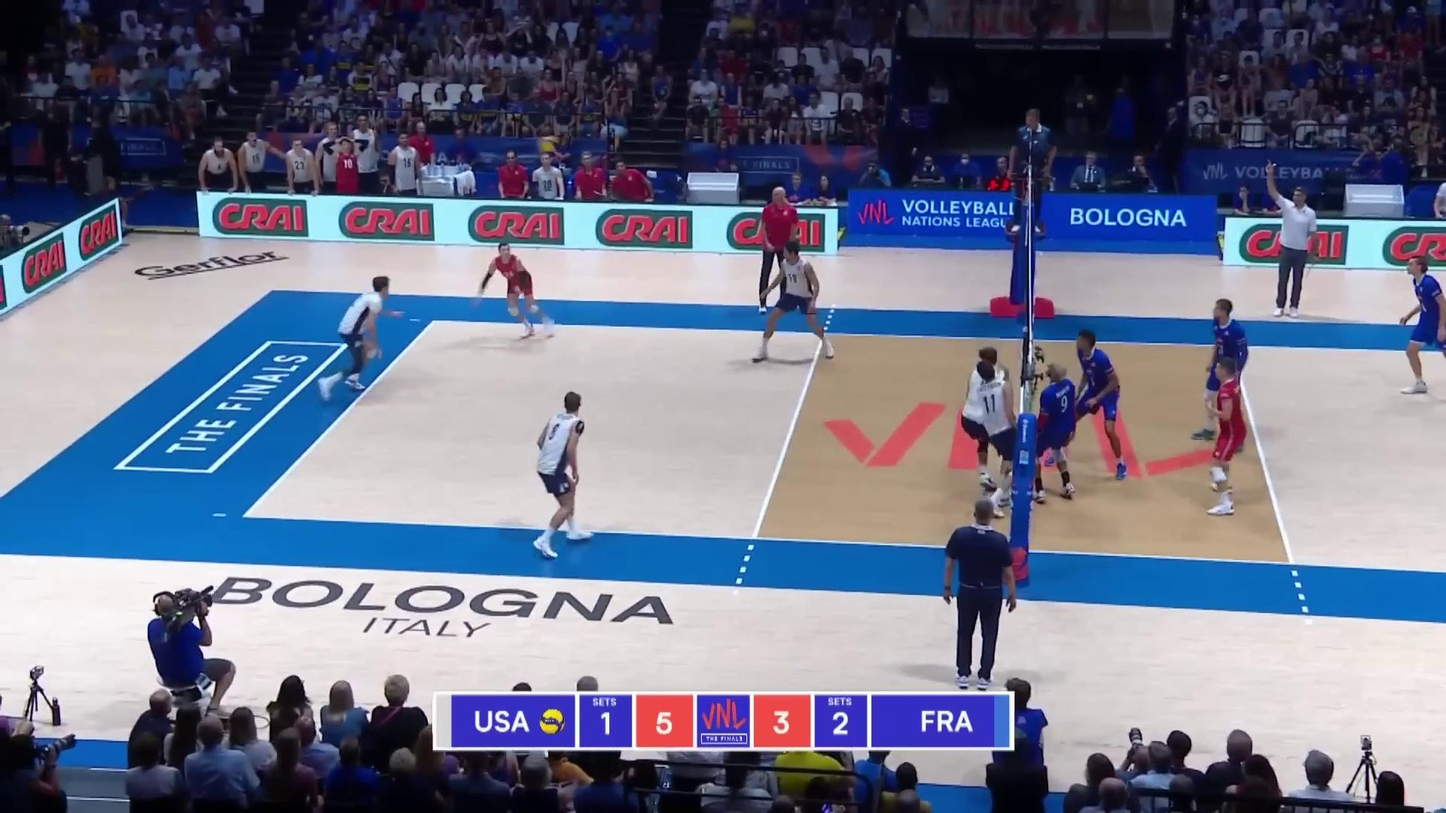player: (1071, 327, 1136, 485), (751, 248, 833, 367), (1201, 357, 1258, 519), (530, 394, 584, 553), (961, 343, 1016, 492), (476, 240, 552, 345), (972, 361, 1023, 516), (1204, 300, 1256, 440), (1038, 362, 1085, 509), (1397, 259, 1446, 399), (334, 275, 390, 392)
refree: (946, 495, 1022, 684), (1011, 109, 1056, 232)
